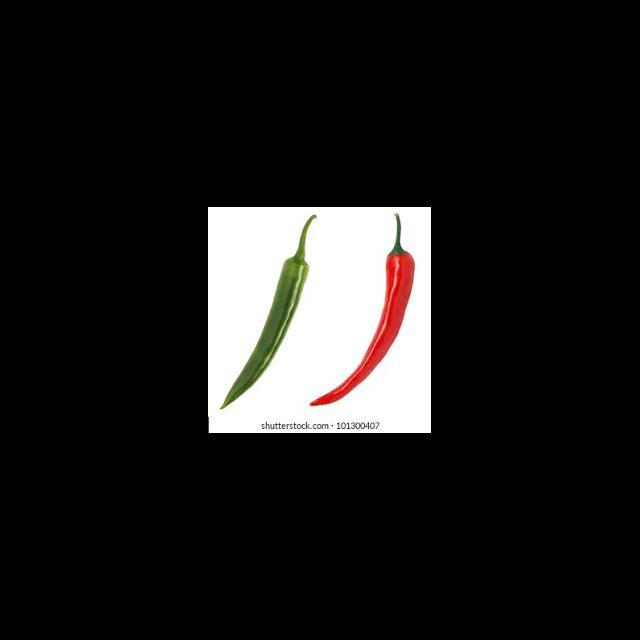chili_pepper: (306, 215, 421, 416), (218, 214, 328, 409)
